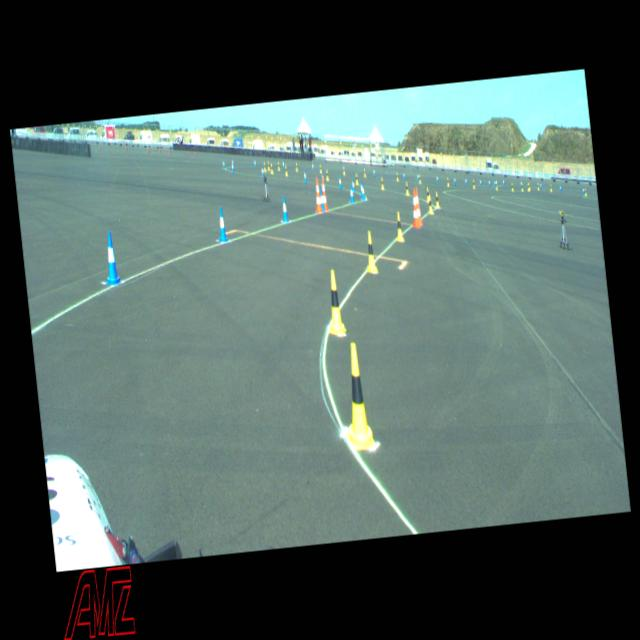blue_cone: (101, 231, 120, 285), (215, 206, 228, 242), (280, 194, 288, 222), (319, 189, 325, 212), (348, 186, 354, 203), (360, 183, 365, 200), (351, 178, 355, 193), (359, 180, 363, 195), (338, 175, 342, 188), (230, 160, 234, 173), (260, 166, 264, 177), (402, 171, 406, 180), (478, 178, 482, 186), (558, 184, 562, 192), (253, 158, 256, 168), (416, 172, 419, 182), (231, 158, 234, 168), (304, 170, 306, 183), (453, 176, 456, 184), (582, 187, 585, 195), (222, 159, 224, 169), (465, 177, 467, 186), (502, 177, 504, 186), (373, 168, 375, 177), (282, 160, 284, 169), (488, 178, 490, 187), (539, 182, 541, 190), (520, 179, 522, 187), (312, 162, 314, 170), (495, 178, 497, 186), (436, 175, 438, 182), (494, 179, 496, 186)
large_orange_cone: (408, 188, 421, 228), (312, 176, 322, 214), (413, 187, 422, 226), (321, 177, 328, 211)
yellow_cone: (336, 342, 374, 451), (322, 268, 346, 336), (362, 229, 378, 273), (393, 211, 404, 242), (426, 194, 434, 214), (424, 186, 430, 202), (434, 190, 439, 208), (379, 177, 384, 190), (404, 180, 408, 196), (354, 172, 358, 185), (325, 169, 329, 181), (284, 165, 288, 176), (270, 163, 274, 174), (266, 160, 270, 171), (526, 182, 530, 192), (318, 164, 322, 173), (294, 162, 298, 171), (276, 162, 280, 170), (263, 162, 266, 172), (446, 176, 449, 186), (549, 183, 552, 192), (536, 182, 539, 191), (511, 182, 514, 191), (520, 182, 523, 191), (472, 178, 474, 190), (363, 168, 366, 176), (342, 166, 345, 174), (495, 182, 498, 190), (527, 182, 530, 190), (418, 173, 420, 184), (396, 172, 398, 181), (584, 187, 586, 196)
